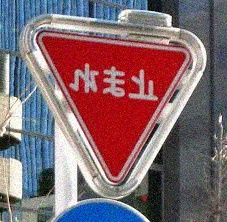Regulatory_sign_triangle: (33, 14, 193, 194)
